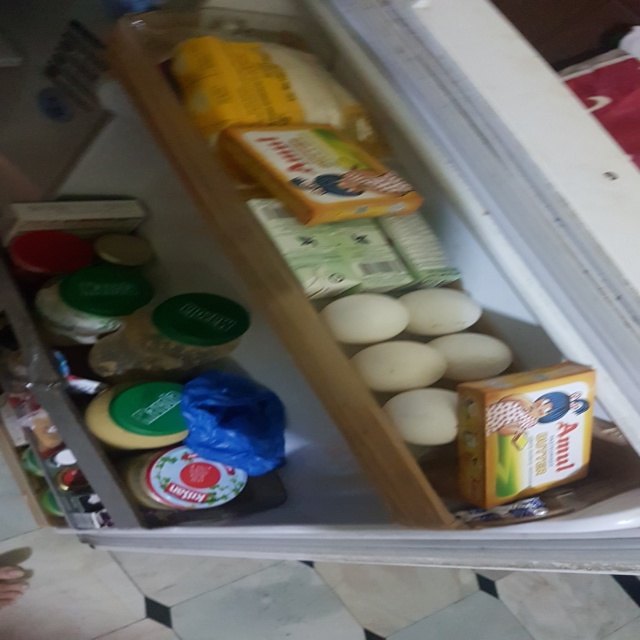butter: (224, 108, 425, 235), (464, 363, 609, 518)
